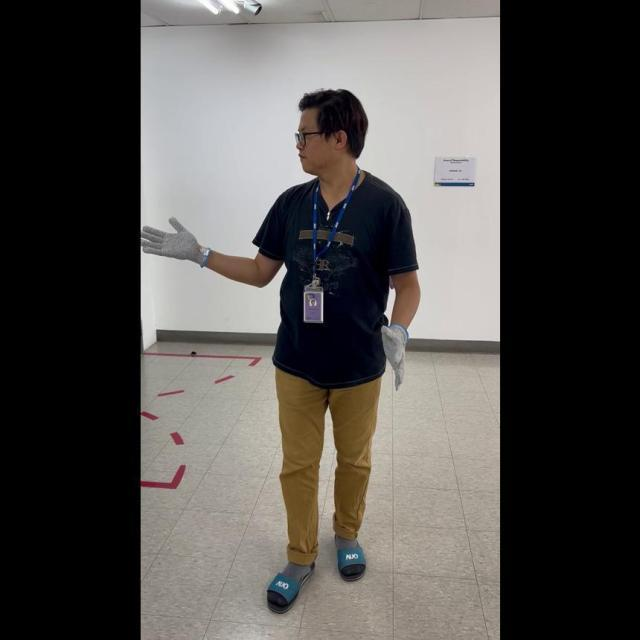gloved_hand: (143, 211, 212, 269), (376, 318, 409, 388)
